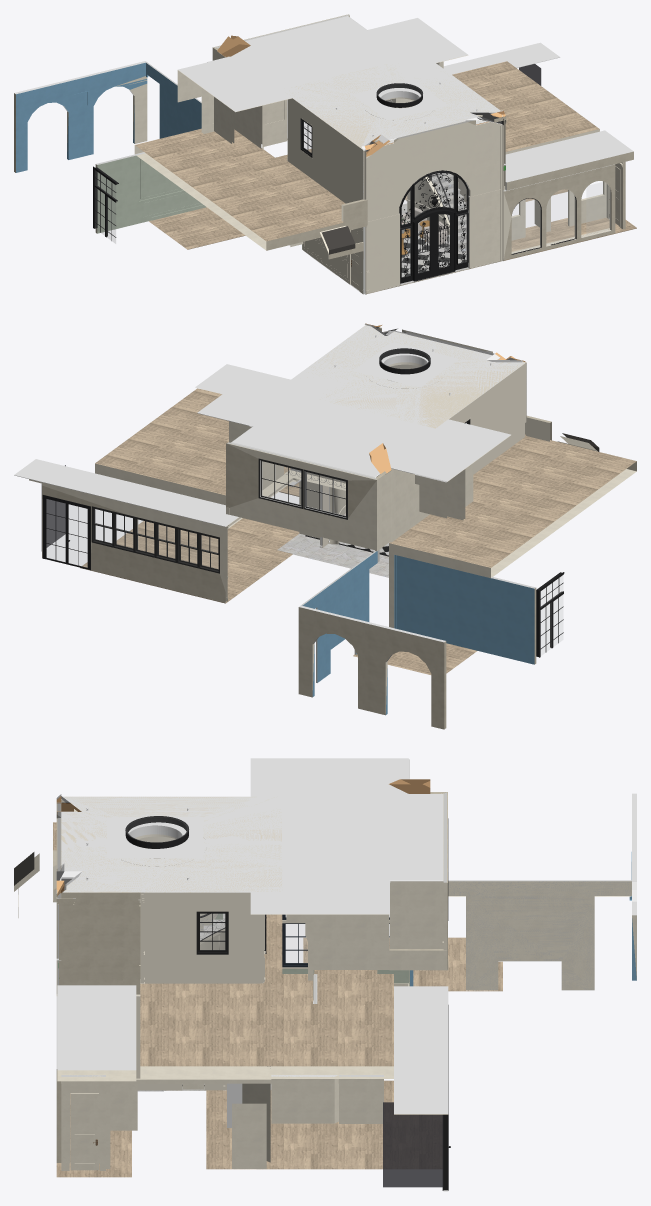
Rendered from entry-07fb23030590.glb.
3 views of the same model, one above another, from view 1: azimuth 30°, elevation 25°; view 2: azimuth 150°, elevation 25°; view 3: azimuth 270°, elevation 25° (orthographic). The views are drawn at different scales.
Visible parts, largest first — view 1: entry-look-2575515a05775d9e, entry-look-9d91b47435c6fb33, entry-9d91b47435c6fb33, entry-4edf3a9420c06709, entry-look-969b861f9850351e, entry-look-b19b106fc304963c, entry-746250f96522f643, entry-look-dbd60ee5c3733ed6, entry-9ca48b730e5de4b2, entry-look-c9e78b9ec1bb39cd, entry-785988ccf932ddd5, entry-e8793759323e04f0 (+32 smaller); view 2: entry-look-2575515a05775d9e, entry-look-9d91b47435c6fb33, entry-look-b19b106fc304963c, entry-9d91b47435c6fb33, entry-look-969b861f9850351e, entry-look-245f595ae2832e16, entry-look-3b0077416469e01b, entry-look-bfb9fa537cd11d1d, entry-e8793759323e04f0, entry-look-9a0e9ee9b2a451d7, entry-746250f96522f643, entry-look-3e6709f91b43c3bf (+16 smaller); view 3: entry-look-2575515a05775d9e, entry-look-9d91b47435c6fb33, entry-9d91b47435c6fb33, entry-look-3e6709f91b43c3bf, entry-look-3b0077416469e01b, entry-c51ecd664a3b22a3, entry-look-dbd60ee5c3733ed6, entry-look-9a0e9ee9b2a451d7, entry-e8793759323e04f0, entry-62353aa10fc57f23, entry-look-cbd4bf73d9724a66, entry-look-55ff1dfd7b659ec1 (+23 smaller).
Boxes of the visible parts, x1,y1,x2,y2 form: entry-look-2575515a05775d9e: [134, 61, 599, 250]; entry-look-9d91b47435c6fb33: [178, 16, 468, 112]; entry-9d91b47435c6fb33: [281, 54, 500, 149]; entry-4edf3a9420c06709: [365, 120, 503, 221]; entry-look-969b861f9850351e: [14, 61, 147, 172]; entry-look-b19b106fc304963c: [95, 152, 202, 233]; entry-746250f96522f643: [287, 98, 361, 203]; entry-look-dbd60ee5c3733ed6: [505, 130, 633, 190]; entry-9ca48b730e5de4b2: [365, 189, 503, 293]; entry-look-c9e78b9ec1bb39cd: [503, 164, 615, 260]; entry-785988ccf932ddd5: [366, 118, 503, 220]; entry-e8793759323e04f0: [289, 64, 496, 149]; entry-look-2575515a05775d9e: [95, 388, 636, 578]; entry-look-9d91b47435c6fb33: [197, 371, 510, 481]; entry-look-b19b106fc304963c: [397, 555, 536, 664]; entry-9d91b47435c6fb33: [277, 325, 525, 427]; entry-look-969b861f9850351e: [298, 605, 446, 729]; entry-look-245f595ae2832e16: [226, 442, 377, 551]; entry-look-3b0077416469e01b: [80, 518, 476, 674]; entry-look-bfb9fa537cd11d1d: [42, 482, 227, 602]; entry-e8793759323e04f0: [307, 326, 525, 428]; entry-look-9a0e9ee9b2a451d7: [14, 459, 238, 526]; entry-746250f96522f643: [449, 363, 524, 474]; entry-look-3e6709f91b43c3bf: [302, 551, 377, 682]; entry-look-2575515a05775d9e: [53, 822, 393, 1078]; entry-look-9d91b47435c6fb33: [250, 758, 442, 914]; entry-9d91b47435c6fb33: [61, 796, 282, 892]; entry-look-3e6709f91b43c3bf: [448, 880, 631, 989]; entry-look-3b0077416469e01b: [206, 937, 502, 1169]; entry-c51ecd664a3b22a3: [145, 892, 264, 983]; entry-look-dbd60ee5c3733ed6: [57, 985, 136, 1081]; entry-look-9a0e9ee9b2a451d7: [394, 986, 448, 1114]; entry-e8793759323e04f0: [58, 794, 282, 892]; entry-62353aa10fc57f23: [61, 892, 140, 994]; entry-look-cbd4bf73d9724a66: [383, 1102, 443, 1187]; entry-look-55ff1dfd7b659ec1: [448, 880, 631, 990].
Size of the model in its own units: 21.06 by 7.01 by 18.
69 materials, 11 textured.
